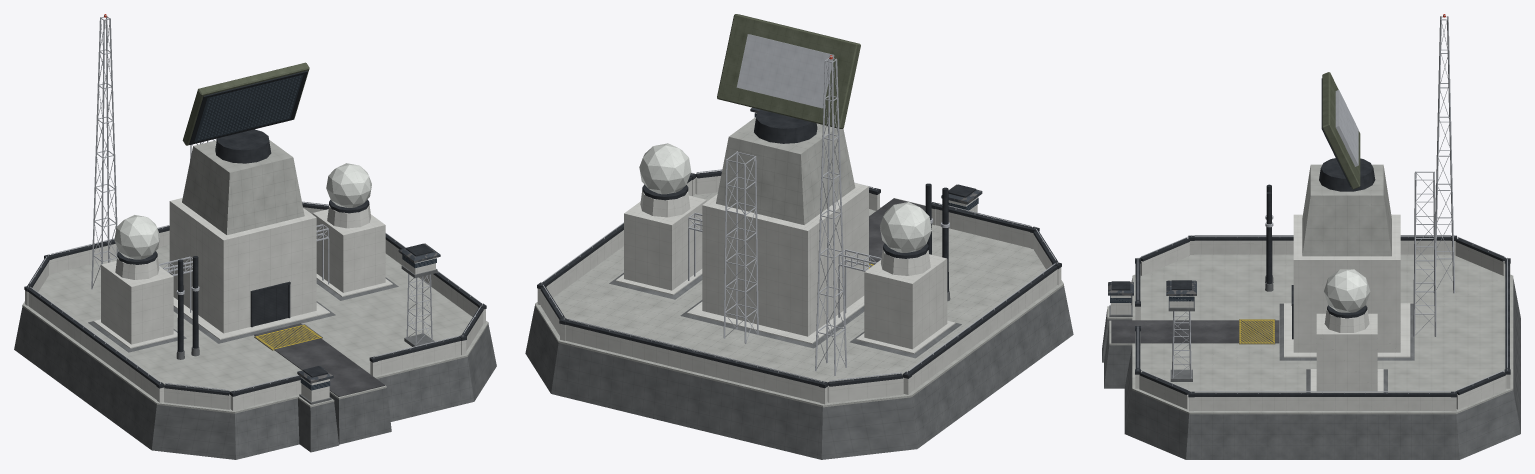
File: abm_radar_lvl3.glb
3 renders of one model, left to right at view 1: azimuth 30°, elevation 25°; view 2: azimuth 150°, elevation 25°; view 3: azimuth 270°, elevation 25°, orthographic. The views are drawn at different scales.
Visible parts, largest first — view 1: RAD_L3_ConcLight, RAD_L3_ConcMid, RAD_L3_ConcDark, RAD_L3_SteelDark, RAD_L3_SteelTruss, RAD_L3_PhasedArray, RAD_L3_Radome, RAD_L3_Asphalt, RAD_L3_MilOlive, RAD_L3_DoorCorr, RAD_L3_HatchZone, RAD_L3_RoofCorr; view 2: RAD_L3_ConcLight, RAD_L3_ConcMid, RAD_L3_ConcDark, RAD_L3_SteelTruss, RAD_L3_SteelDark, RAD_L3_MilOlive, RAD_L3_Radome, RAD_L3_Asphalt; view 3: RAD_L3_ConcMid, RAD_L3_ConcLight, RAD_L3_ConcDark, RAD_L3_SteelDark, RAD_L3_SteelTruss, RAD_L3_Asphalt, RAD_L3_MilOlive, RAD_L3_Radome, RAD_L3_HatchZone, RAD_L3_RoofCorr.
Boxes of the visible parts, <box> form: RAD_L3_ConcLight: <box>25,198,485,410</box>; RAD_L3_ConcMid: <box>22,140,488,413</box>; RAD_L3_ConcDark: <box>14,265,496,459</box>; RAD_L3_SteelDark: <box>24,129,486,396</box>; RAD_L3_SteelTruss: <box>28,16,482,391</box>; RAD_L3_PhasedArray: <box>189,70,307,144</box>; RAD_L3_Radome: <box>114,163,371,259</box>; RAD_L3_Asphalt: <box>254,323,384,396</box>; RAD_L3_MilOlive: <box>182,62,309,145</box>; RAD_L3_DoorCorr: <box>253,285,288,326</box>; RAD_L3_HatchZone: <box>254,324,322,350</box>; RAD_L3_RoofCorr: <box>297,243,440,383</box>; RAD_L3_ConcLight: <box>537,112,1061,404</box>; RAD_L3_ConcMid: <box>535,117,1063,407</box>; RAD_L3_ConcDark: <box>525,273,1073,459</box>; RAD_L3_SteelTruss: <box>541,34,1057,383</box>; RAD_L3_SteelDark: <box>537,110,1061,388</box>; RAD_L3_MilOlive: <box>717,14,860,128</box>; RAD_L3_Radome: <box>639,143,931,252</box>; RAD_L3_Asphalt: <box>869,198,925,264</box>; RAD_L3_ConcMid: <box>1107,164,1513,414</box>; RAD_L3_ConcLight: <box>1110,214,1510,411</box>; RAD_L3_ConcDark: <box>1102,275,1520,459</box>; RAD_L3_SteelDark: <box>1111,158,1510,397</box>; RAD_L3_SteelTruss: <box>1137,16,1507,393</box>; RAD_L3_Asphalt: <box>1111,320,1279,343</box>; RAD_L3_MilOlive: <box>1322,72,1360,189</box>; RAD_L3_Radome: <box>1324,269,1370,312</box>; RAD_L3_HatchZone: <box>1239,319,1275,344</box>; RAD_L3_RoofCorr: <box>1108,280,1196,295</box>.
Bounding box in the file's own units: 81.5 × 72.28 × 86.15.
14 materials, 14 textured.
